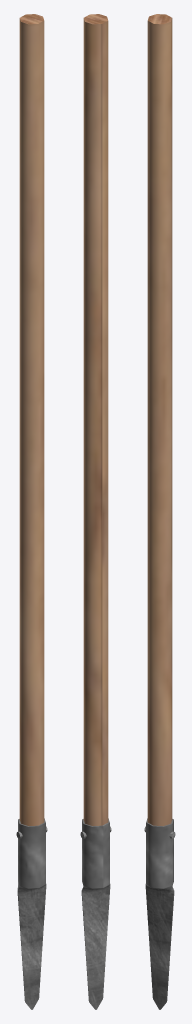
The model's file is HCSpear.fbx.
3 views of the same model, side by side, from view 1: azimuth 30°, elevation 25°; view 2: azimuth 210°, elevation 25°; view 3: azimuth 330°, elevation 25° (orthographic).
Visible parts, largest first — view 1: Handle; view 2: Handle; view 3: Handle.
Part boxes in pixels (box(x1,y1,x2,y2)): Handle: box(16, 14, 47, 1009); Handle: box(80, 14, 111, 1009); Handle: box(144, 14, 175, 1009).
Size of the model in its own units: 0.0247 by 0.831 by 0.0219.
